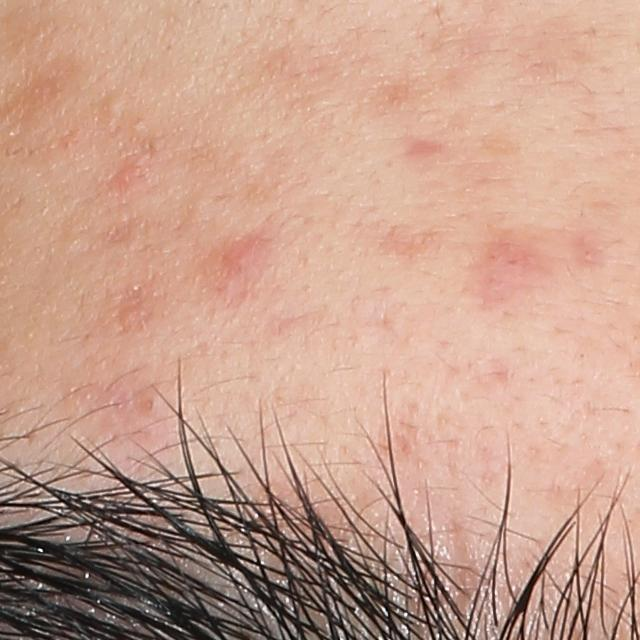comedo: (100, 92, 127, 121)
papule: (108, 164, 147, 191)
